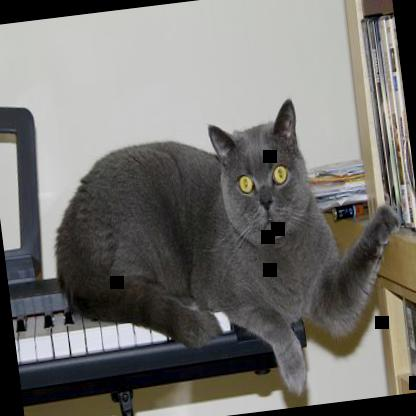cat: (39, 85, 415, 415)
